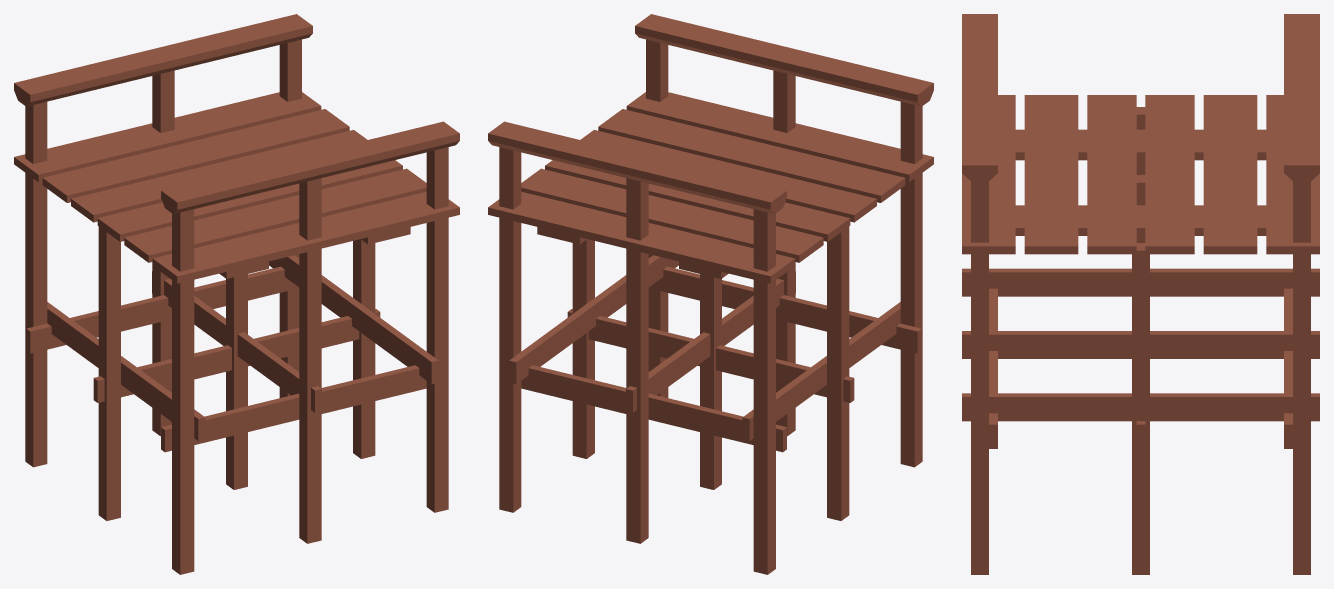
The model's file is scaffold_high_railing 1.fbx.
3 views of the same model, side by side, from view 1: azimuth 30°, elevation 25°; view 2: azimuth 150°, elevation 25°; view 3: azimuth 270°, elevation 25° (orthographic). The views are drawn at different scales.
Parts seen in each view (by area): view 1: scaffold_high_railing; view 2: scaffold_high_railing; view 3: scaffold_high_railing.
Boxes of the visible parts, x1,y1,x2,y2 form: scaffold_high_railing: (14,14,459,574); scaffold_high_railing: (488,14,933,574); scaffold_high_railing: (962,14,1319,574).
Size of the model in its own units: 400 by 510 by 400.
